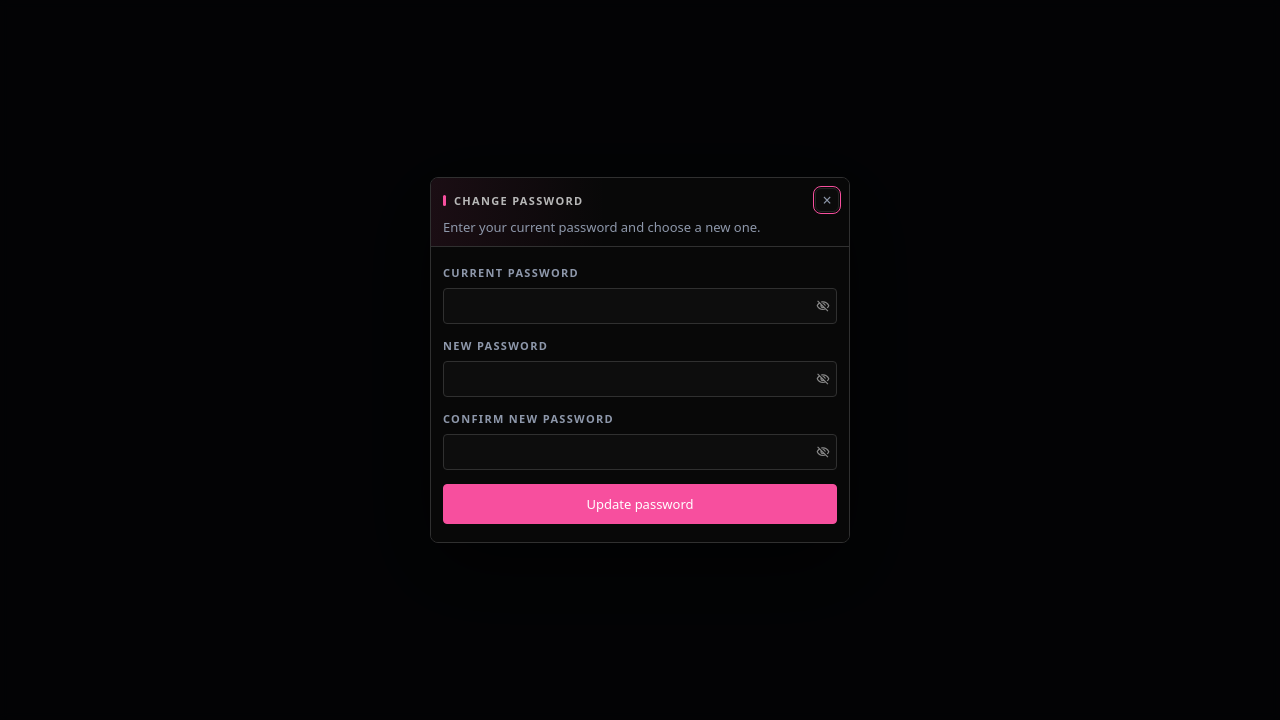
Test: ChangePasswordModal › submits valid form and shows success message
In the password field labelled "Current password": (640, 306) x1=443 y1=288 x2=837 y2=324, type "password123"
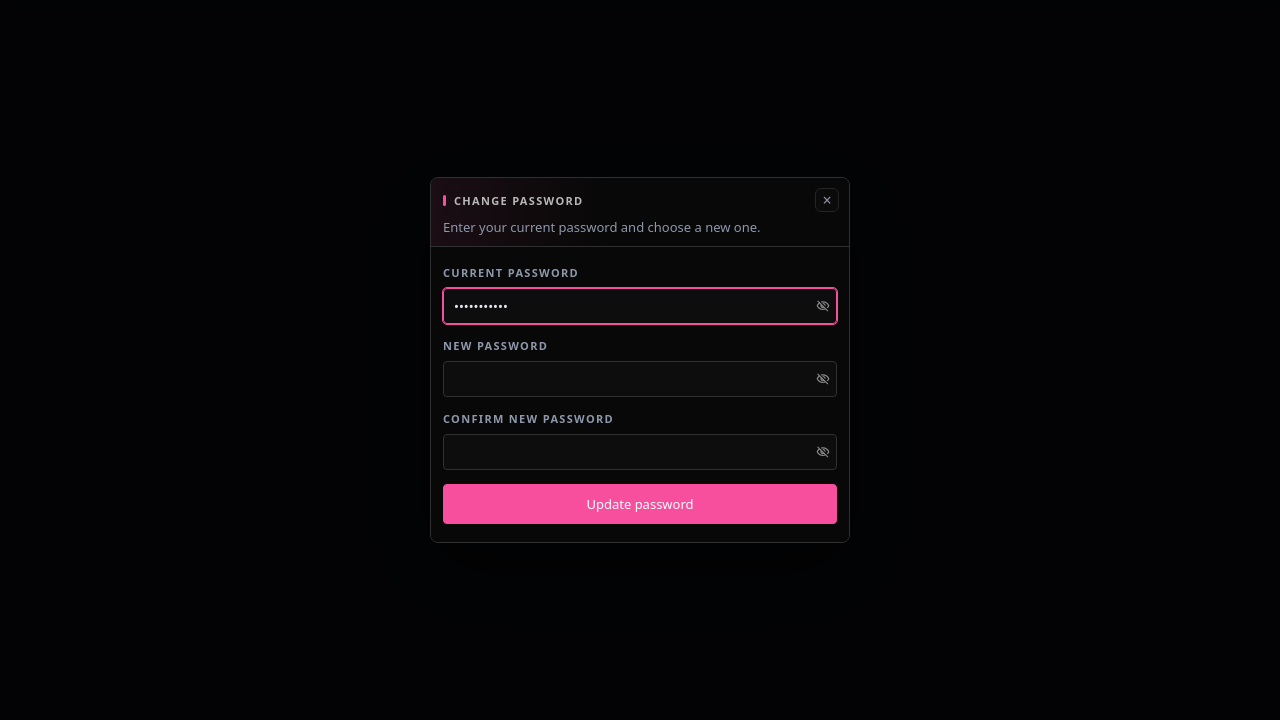
In the password field labelled "New password": (640, 379) x1=443 y1=361 x2=837 y2=397, type "newpassword123"
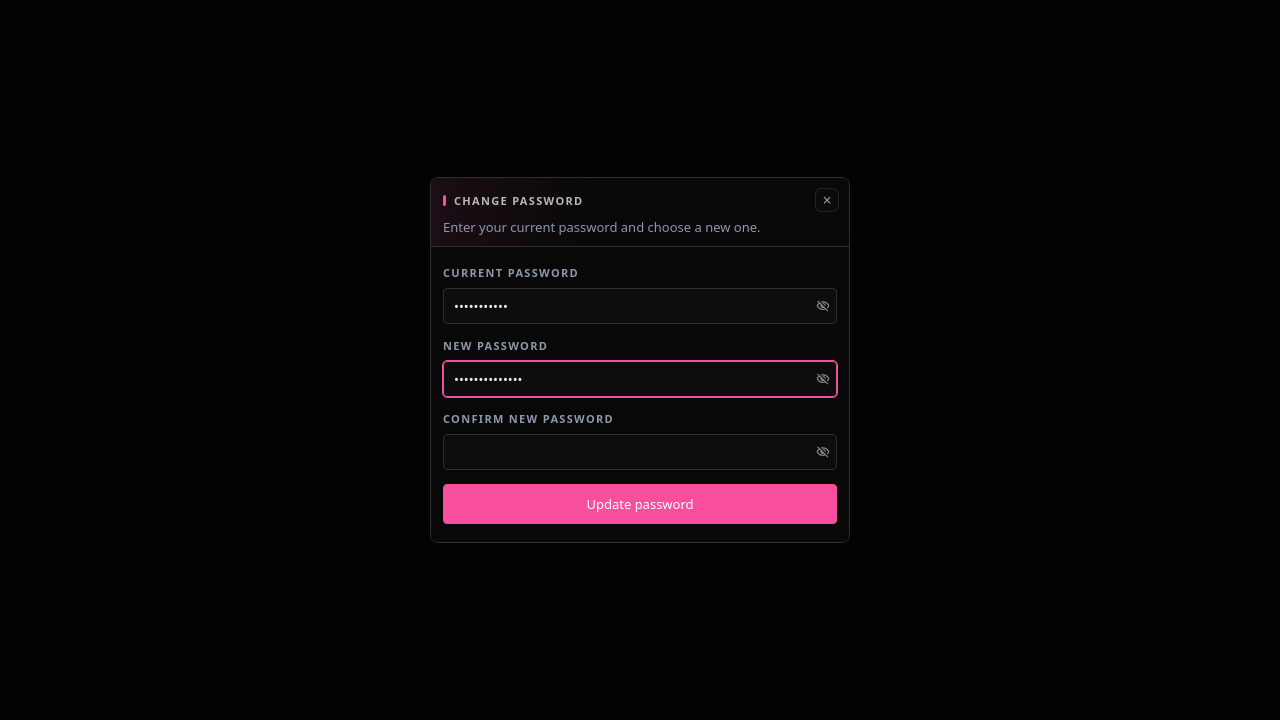
In the password field labelled "Confirm new password": (640, 452) x1=443 y1=434 x2=837 y2=470, type "newpassword123"
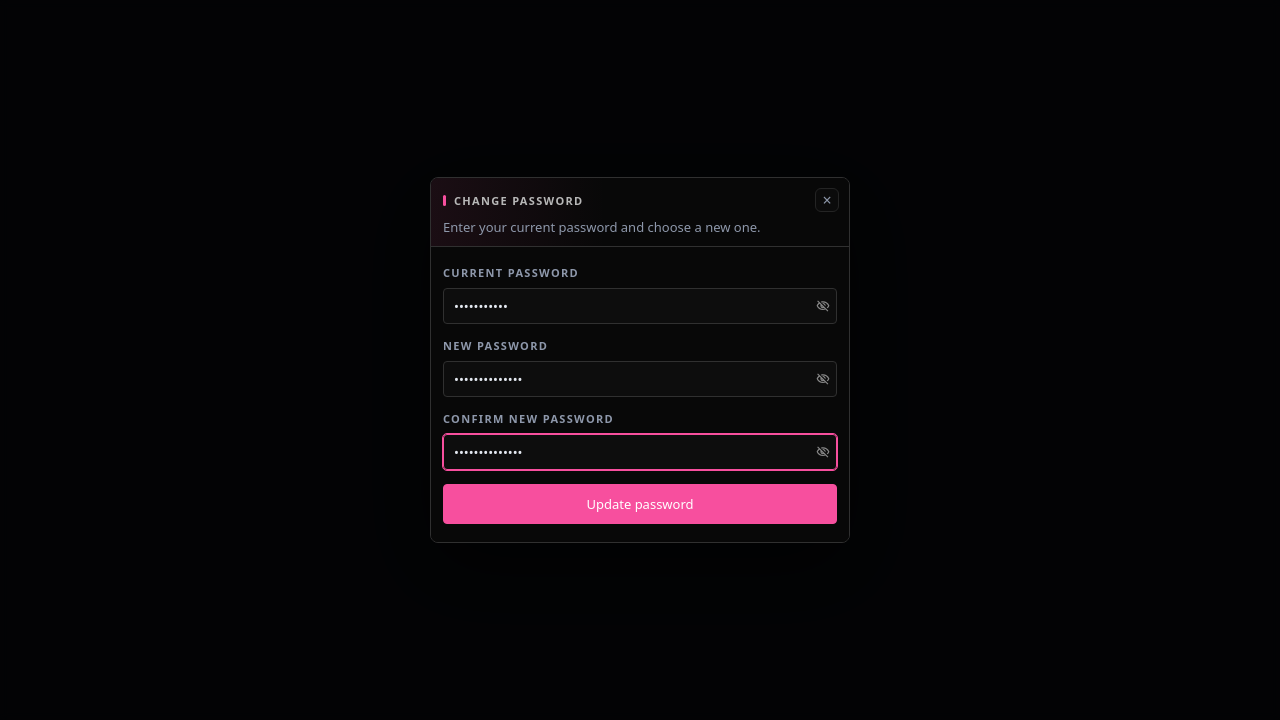
Click the button "Update password": (640, 504) x1=443 y1=484 x2=837 y2=524
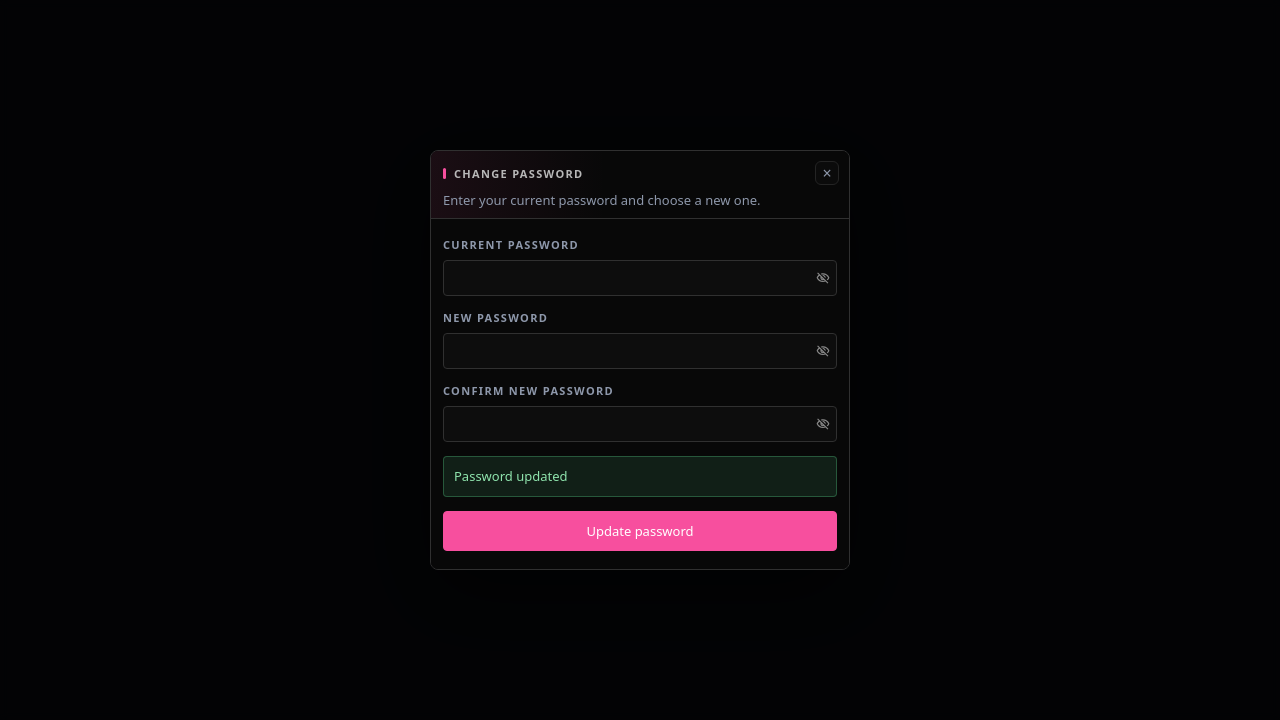
Check: the text "Password updated" is shown, box x1=443 y1=456 x2=837 y2=497
